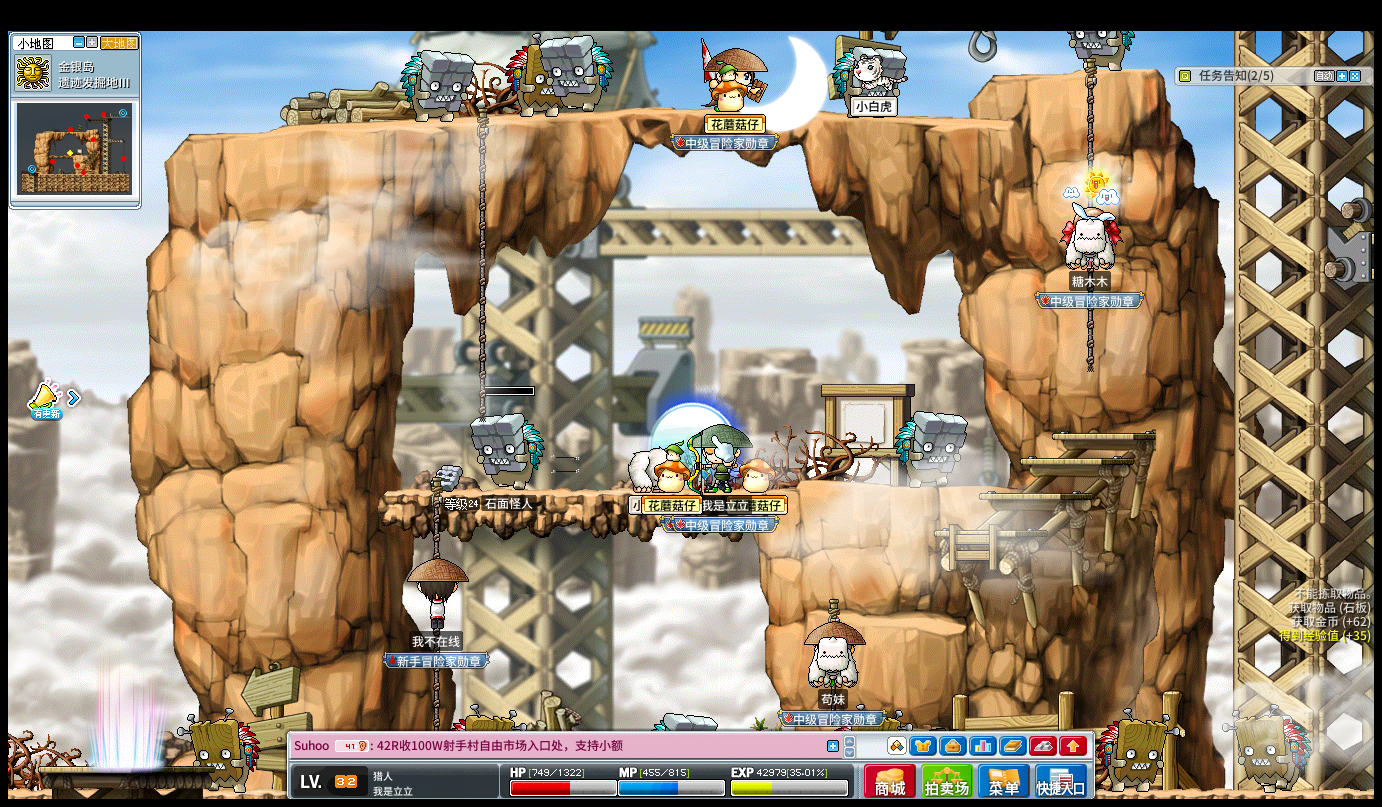floor: (195, 104, 1028, 139), (381, 488, 774, 499), (989, 66, 1164, 79), (859, 613, 966, 634), (846, 483, 1015, 494), (1053, 429, 1155, 441), (1015, 455, 1129, 464), (933, 528, 1044, 537), (979, 492, 1090, 500)
monster: (1228, 707, 1310, 791), (1096, 712, 1179, 791), (186, 712, 261, 792), (543, 32, 614, 115), (470, 412, 545, 490), (400, 48, 472, 123), (895, 411, 967, 486)
rope: (475, 104, 488, 419), (1083, 56, 1096, 159), (428, 480, 441, 558), (1084, 305, 1094, 373), (429, 670, 440, 727)
